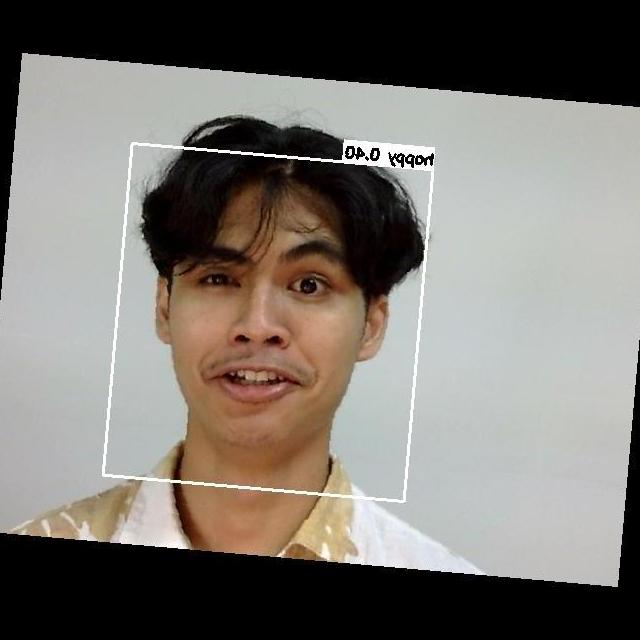Fear: (176, 224, 355, 423)
